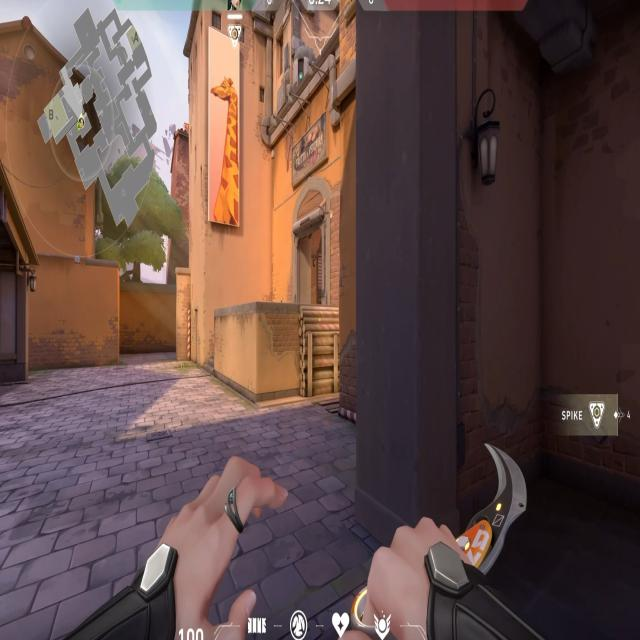B_Cubby: (252, 296, 346, 425)
